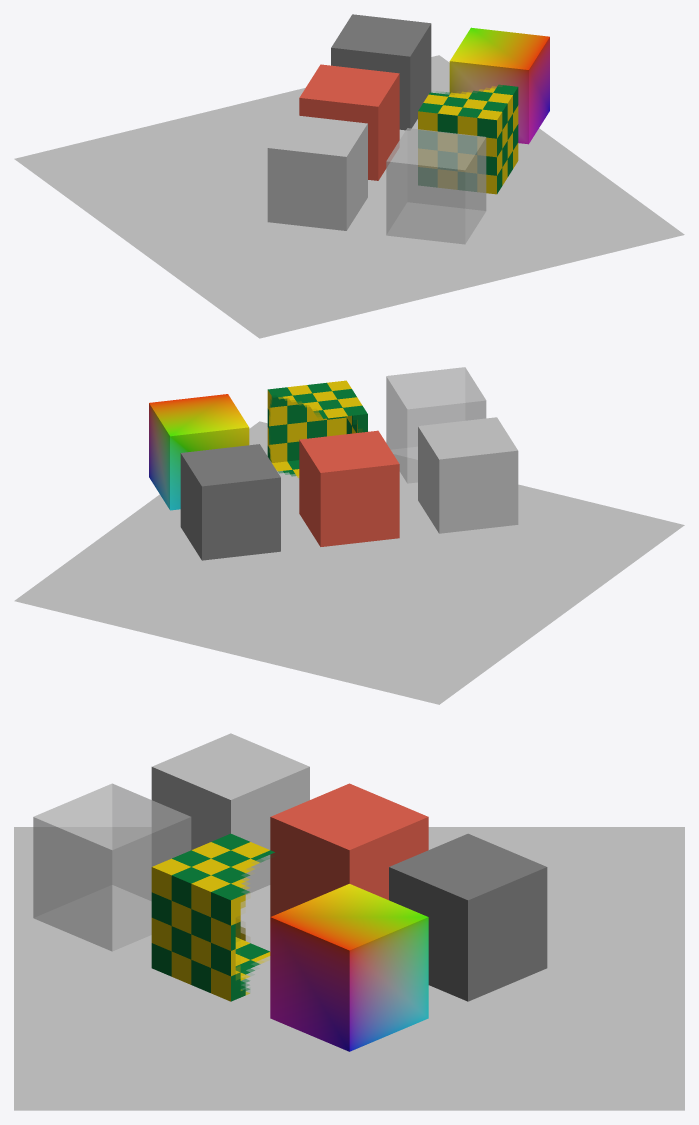
File: boxes.gltf
3 views of the same model, one above another, from view 1: azimuth 30°, elevation 25°; view 2: azimuth 150°, elevation 25°; view 3: azimuth 270°, elevation 25° (orthographic). The views are drawn at different scales.
Parts seen in each view (by area): view 1: Plane, Cube_baseColorTexture_Opacity, Cube_Texture, Cube_opacityTexture, Cube_vertexColor, Cube_baseColor, Cube_metallic; view 2: Plane, Cube_baseColor, Cube_metallic, Cube_Texture, Cube_vertexColor, Cube_baseColorTexture_Opacity, Cube_opacityTexture; view 3: Plane, Cube_vertexColor, Cube_metallic, Cube_baseColorTexture_Opacity, Cube_Texture, Cube_opacityTexture, Cube_baseColor.
Part boxes in pixels (left/top/right/bottom): Plane: left=14, top=55, right=684, bottom=338; Cube_baseColorTexture_Opacity: left=386, top=128, right=486, bottom=244; Cube_Texture: left=267, top=114, right=367, bottom=230; Cube_opacityTexture: left=418, top=84, right=518, bottom=194; Cube_vertexColor: left=449, top=27, right=549, bottom=144; Cube_baseColor: left=299, top=64, right=399, bottom=180; Cube_metallic: left=331, top=14, right=431, bottom=130; Plane: left=14, top=421, right=684, bottom=704; Cube_baseColor: left=299, top=430, right=399, bottom=546; Cube_metallic: left=180, top=444, right=280, bottom=560; Cube_Texture: left=418, top=417, right=518, bottom=533; Cube_vertexColor: left=149, top=394, right=249, bottom=510; Cube_baseColorTexture_Opacity: left=386, top=367, right=486, bottom=483; Cube_opacityTexture: left=267, top=380, right=367, bottom=477; Plane: left=14, top=827, right=684, bottom=1110; Cube_vertexColor: left=270, top=884, right=428, bottom=1051; Cube_metallic: left=389, top=833, right=547, bottom=1001; Cube_baseColorTexture_Opacity: left=33, top=783, right=191, bottom=951; Cube_Texture: left=151, top=733, right=309, bottom=894; Cube_opacityTexture: left=151, top=833, right=274, bottom=1001; Cube_baseColor: left=270, top=783, right=428, bottom=916.
Bounding box in the file's own units: 6 × 1.5 × 6.
